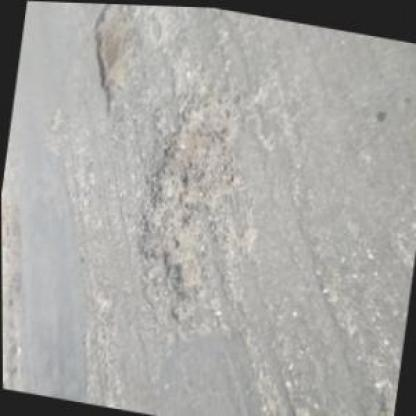pothole: (121, 86, 248, 330), (80, 3, 146, 116)
